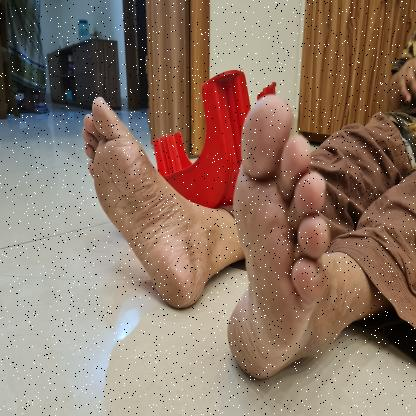leg: (222, 86, 390, 387), (75, 92, 242, 322), (29, 92, 56, 119)
